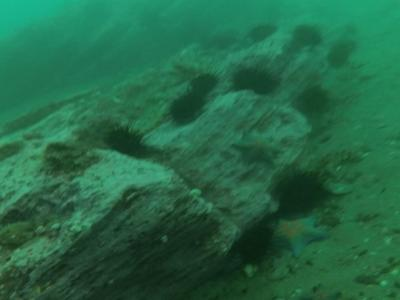urchin: (270, 166, 332, 219), (103, 118, 161, 164), (233, 61, 285, 95), (168, 91, 209, 126), (236, 225, 272, 264), (294, 85, 332, 116), (190, 63, 223, 96), (292, 23, 322, 48), (333, 47, 354, 72), (250, 24, 277, 42)
